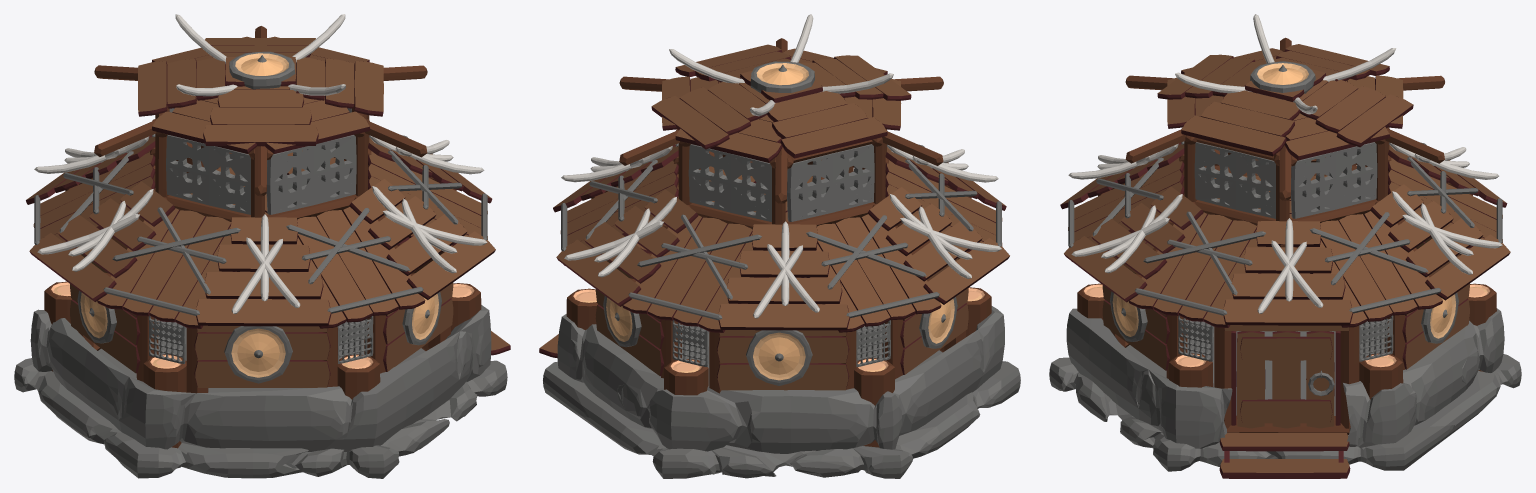
File: warhouse.fbx
3 views of the same model, side by side, from view 1: azimuth 30°, elevation 25°; view 2: azimuth 150°, elevation 25°; view 3: azimuth 270°, elevation 25° (orthographic). The views are drawn at different scales.
Visible parts, largest first — view 1: Cylinder.097, Cylinder.096, Plane.003, Plane.004, Cylinder.031, Cylinder.251, Cylinder.193, Cylinder.012, Cylinder.009, Cylinder.013, Cylinder.007, Cylinder.032 (+84 smaller); view 2: Cylinder.097, Cylinder.096, Plane.005, Plane, Cylinder.039, Cylinder.253, Cylinder.184, Cylinder.020, Cylinder.017, Cylinder.021, Cylinder.016, Cylinder.040 (+82 smaller); view 3: Cylinder.097, Cylinder.096, Plane.001, Plane.002, Cylinder.047, Cylinder.111, Cylinder.028, Cylinder.110, Cylinder.025, Cylinder.029, Cylinder.048, Cylinder.024 (+89 smaller).
Boxes of the visible parts, x1=… form: Cylinder.097: x1=30, y1=305, x2=491, y2=451; Cylinder.096: x1=14, y1=320, x2=507, y2=478; Plane.003: x1=266, y1=135, x2=356, y2=214; Plane.004: x1=166, y1=135, x2=250, y2=214; Cylinder.031: x1=196, y1=299, x2=331, y2=326; Cylinder.251: x1=224, y1=326, x2=292, y2=383; Cylinder.193: x1=194, y1=360, x2=330, y2=387; Cylinder.012: x1=123, y1=210, x2=205, y2=316; Cylinder.009: x1=316, y1=210, x2=398, y2=315; Cylinder.013: x1=149, y1=216, x2=231, y2=322; Cylinder.007: x1=297, y1=216, x2=372, y2=322; Cylinder.032: x1=204, y1=272, x2=323, y2=299; Cylinder.097: x1=557, y1=306, x2=1004, y2=453; Cylinder.096: x1=543, y1=324, x2=1020, y2=478; Plane.005: x1=787, y1=144, x2=874, y2=221; Plane: x1=688, y1=144, x2=771, y2=221; Cylinder.039: x1=718, y1=304, x2=849, y2=330; Cylinder.253: x1=746, y1=330, x2=812, y2=385; Cylinder.184: x1=716, y1=363, x2=849, y2=390; Cylinder.020: x1=647, y1=217, x2=727, y2=320; Cylinder.017: x1=835, y1=217, x2=915, y2=320; Cylinder.021: x1=673, y1=223, x2=752, y2=326; Cylinder.016: x1=817, y1=223, x2=890, y2=326; Cylinder.040: x1=727, y1=277, x2=842, y2=303; Cylinder.097: x1=1066, y1=308, x2=1504, y2=448; Cylinder.096: x1=1049, y1=319, x2=1521, y2=471; Plane.001: x1=1291, y1=142, x2=1377, y2=218; Plane.002: x1=1194, y1=142, x2=1275, y2=218; Cylinder.047: x1=1223, y1=299, x2=1352, y2=325; Cylinder.111: x1=1219, y1=459, x2=1350, y2=477; Cylinder.028: x1=1153, y1=214, x2=1232, y2=315; Cylinder.110: x1=1219, y1=432, x2=1349, y2=451; Cylinder.025: x1=1338, y1=214, x2=1417, y2=315; Cylinder.029: x1=1179, y1=220, x2=1256, y2=321; Cylinder.048: x1=1231, y1=273, x2=1345, y2=299; Cylinder.024: x1=1320, y1=220, x2=1392, y2=321.
Bounding box in the file's own units: 1384 × 1057 × 1384.
